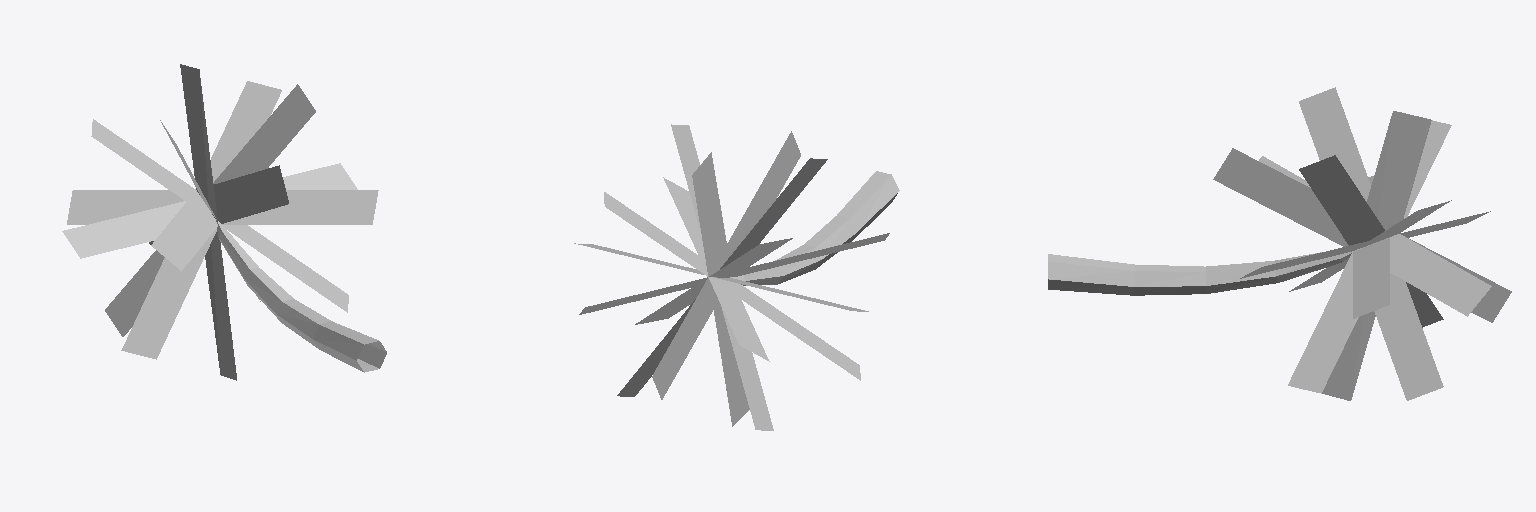
The model's file is polygon0.495.obj.
3 views of the same model, side by side, from view 1: azimuth 30°, elevation 25°; view 2: azimuth 150°, elevation 25°; view 3: azimuth 270°, elevation 25° (orthographic).
Parts seen in each view (by area): view 1: TreeC.121; view 2: TreeC.121; view 3: TreeC.121.
Boxes of the visible parts, box(x1,y1,x2,y2) form: TreeC.121: box(62, 64, 386, 380); TreeC.121: box(574, 124, 899, 430); TreeC.121: box(1048, 87, 1511, 400).
Bounding box in the file's own units: 40 × 39.97 × 57.82.